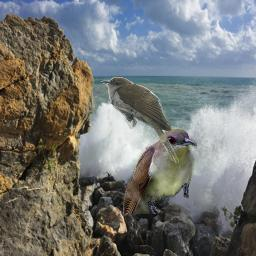Cuckoo: (101, 77, 179, 166), (123, 129, 197, 214)
